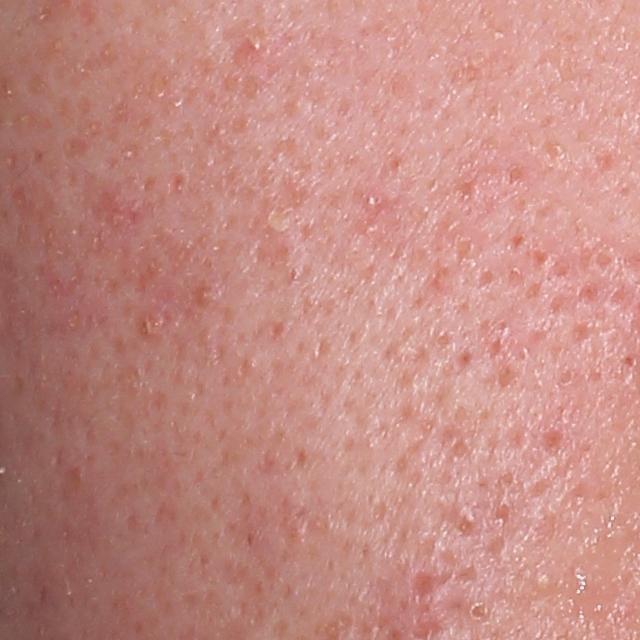atrophic_scar: (410, 569, 434, 604)
comedo: (530, 570, 554, 593), (469, 599, 490, 619), (245, 357, 258, 372)
